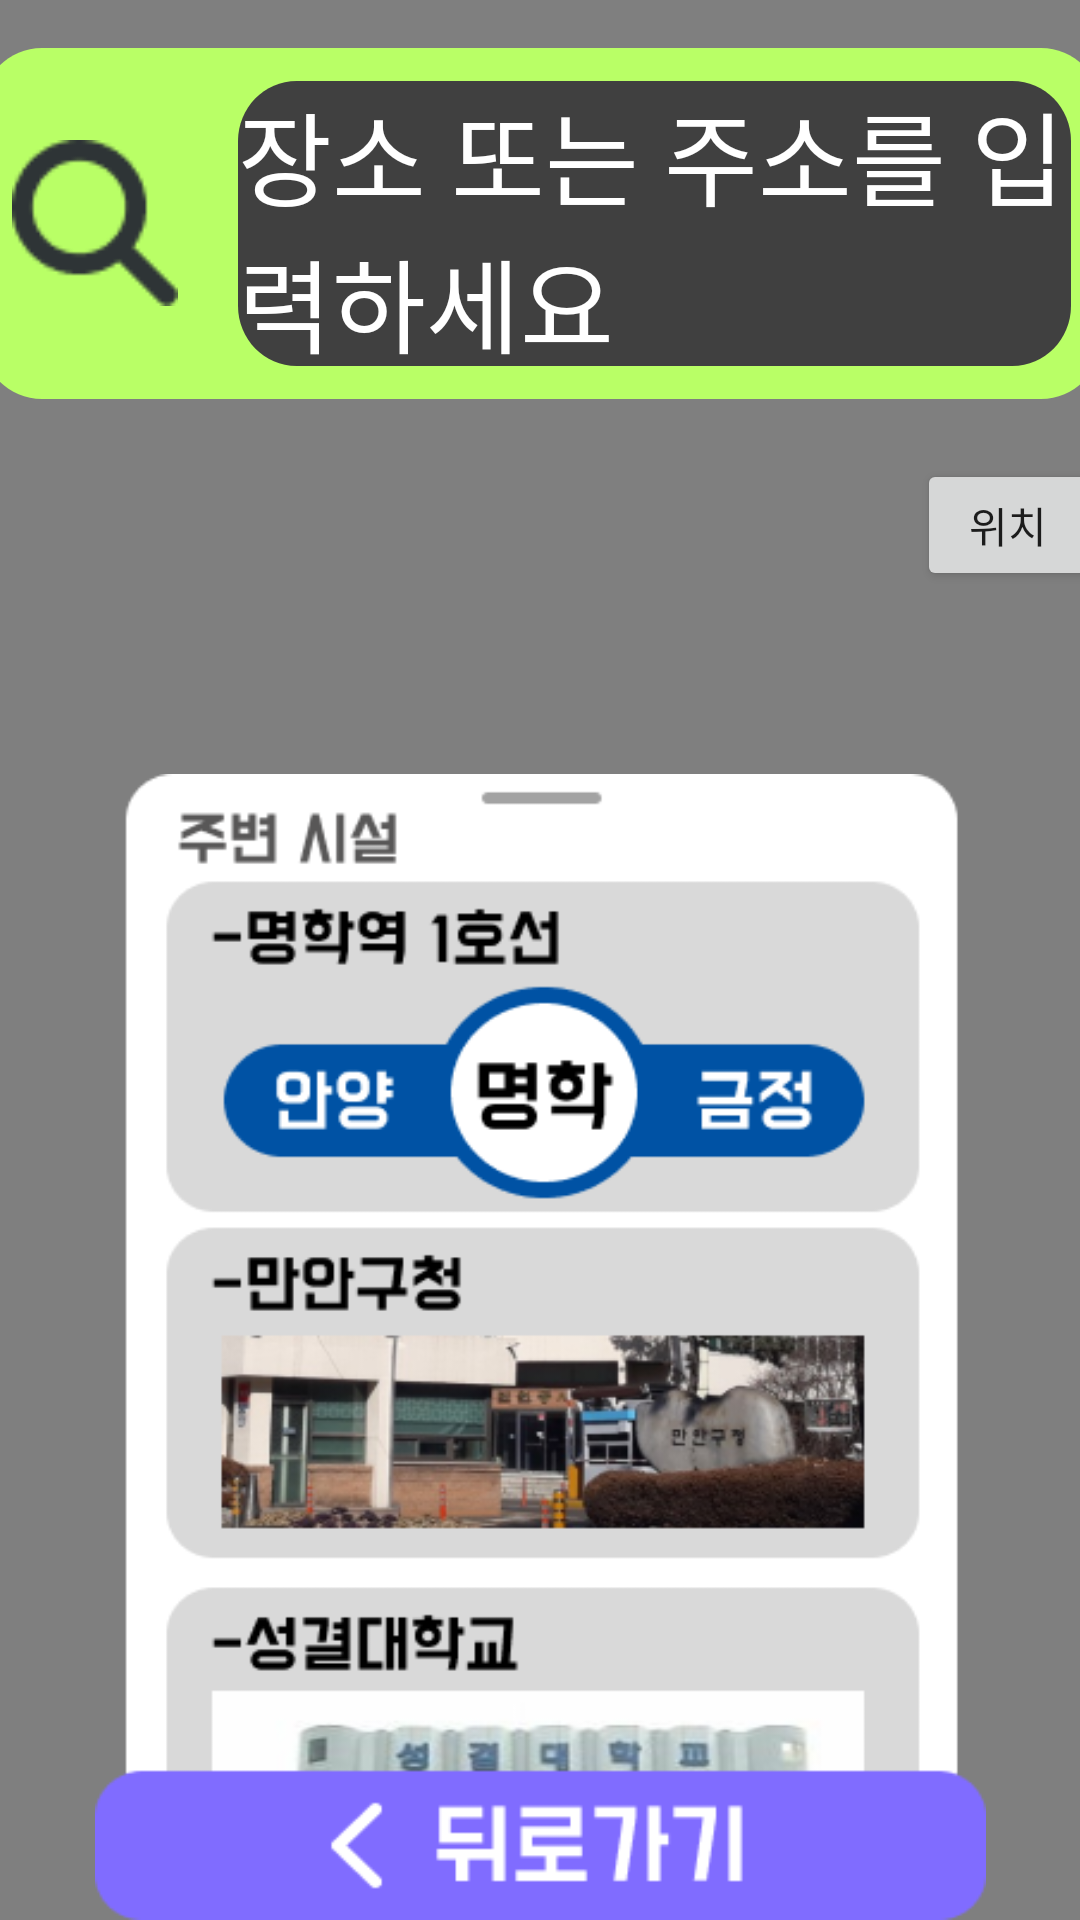

Screen size 1080w x 1920h. Icon name, then its center in pixels as (x=x, y=y):
lens: (x=95, y=223)
